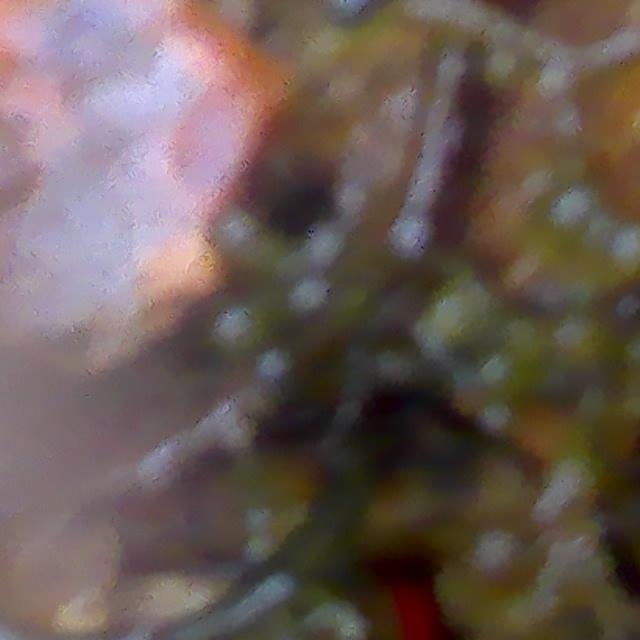SeaGrape: (464, 532, 533, 609)
